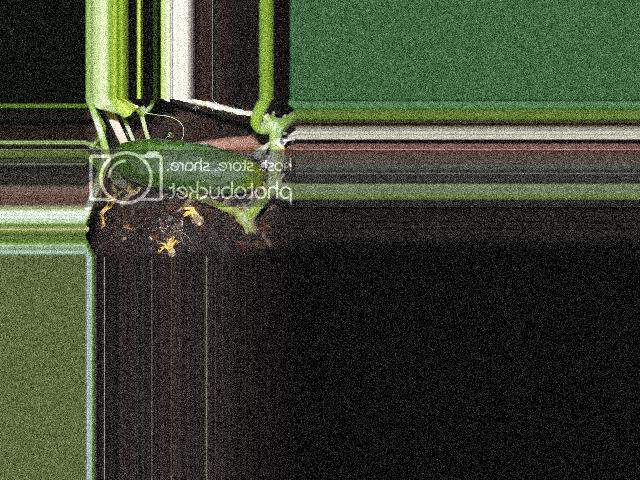cucumber: (112, 139, 263, 195)
